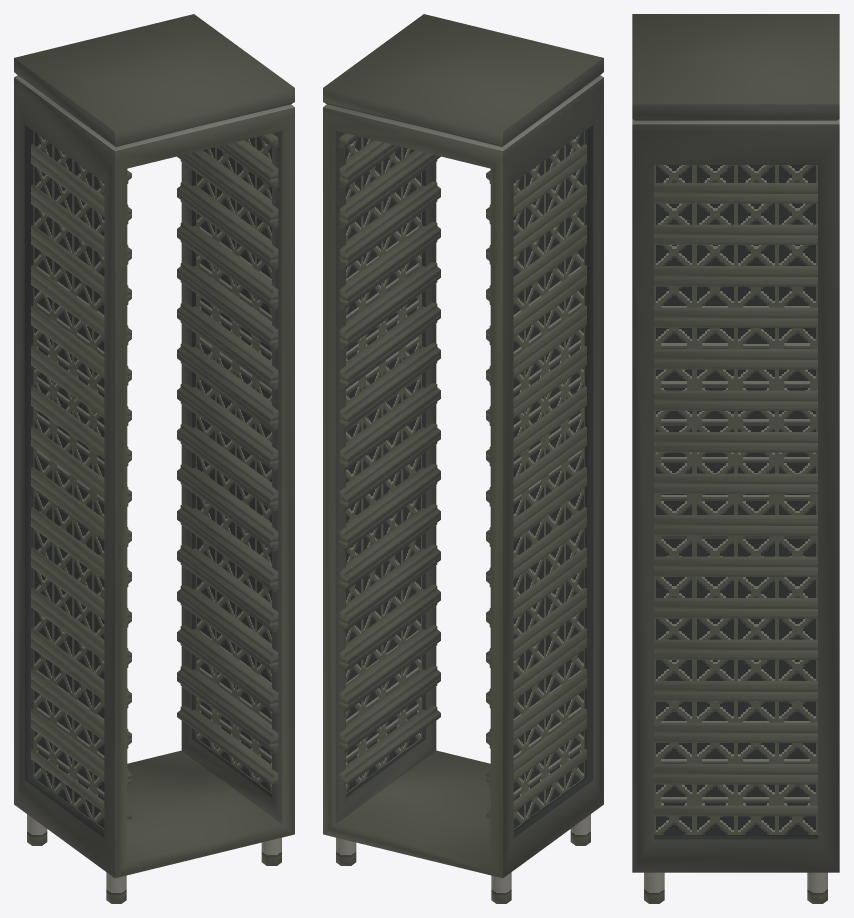
File: rack-empty.glb
3 views of the same model, side by side, from view 1: azimuth 30°, elevation 25°; view 2: azimuth 150°, elevation 25°; view 3: azimuth 270°, elevation 25° (orthographic). The views are drawn at different scales.
Parts seen in each view (by area): view 1: Plane.045, Plane.047, Plane.046; view 2: Plane.045, Plane.047, Plane.046; view 3: Plane.045, Plane.047, Plane.046.
Boxes of the visible parts, x1,y1,x2,y2 form: Plane.045: (14, 14, 294, 878); Plane.047: (31, 133, 278, 819); Plane.046: (27, 814, 281, 903); Plane.045: (323, 14, 603, 878); Plane.047: (339, 133, 586, 819); Plane.046: (336, 814, 590, 903); Plane.045: (632, 14, 839, 872); Plane.047: (654, 183, 817, 816); Plane.046: (644, 872, 827, 903).
Bounding box in the file's own units: 0.2195 × 0.9082 × 0.2131.
Materials: 1 (1 with a texture image).
